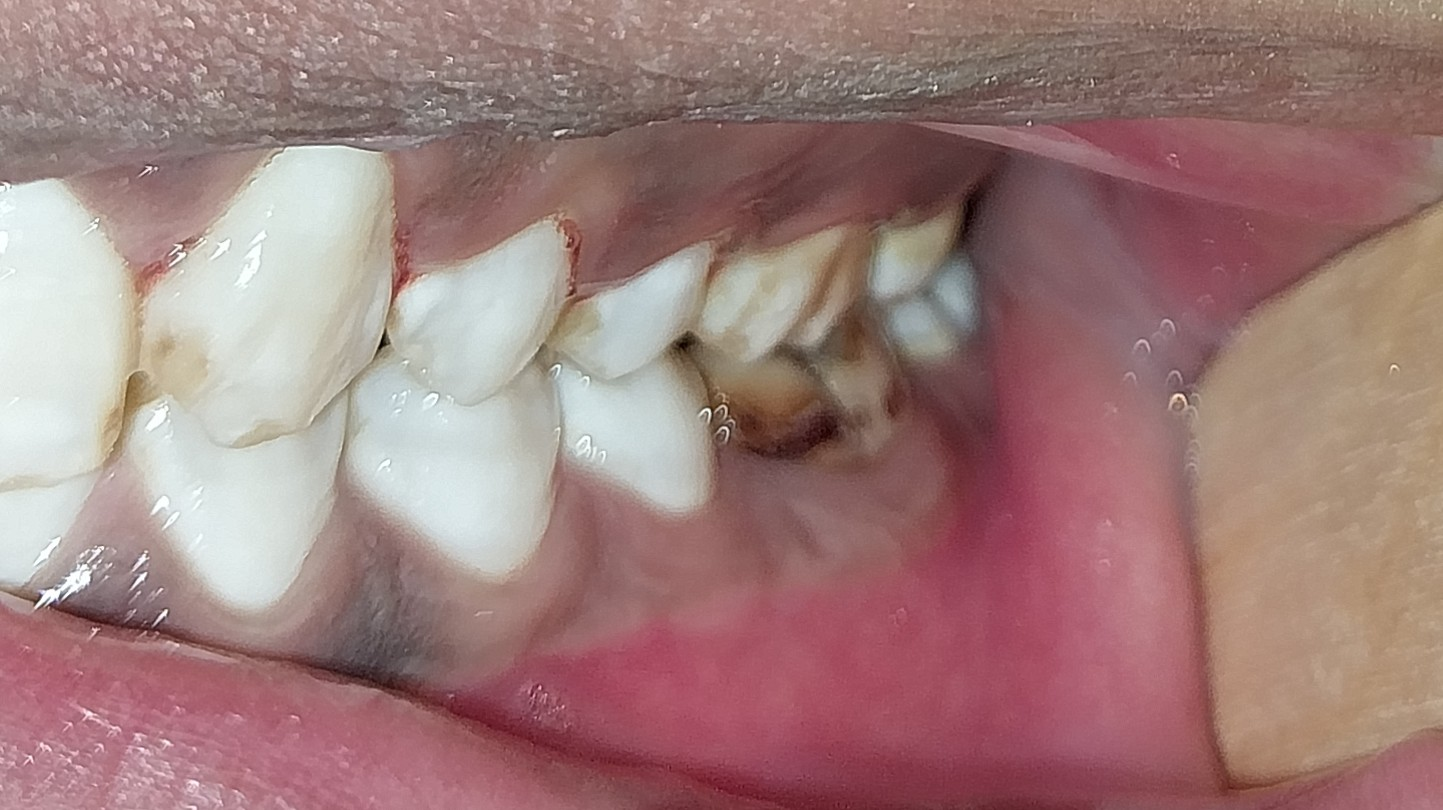D: (690, 319, 916, 460)
